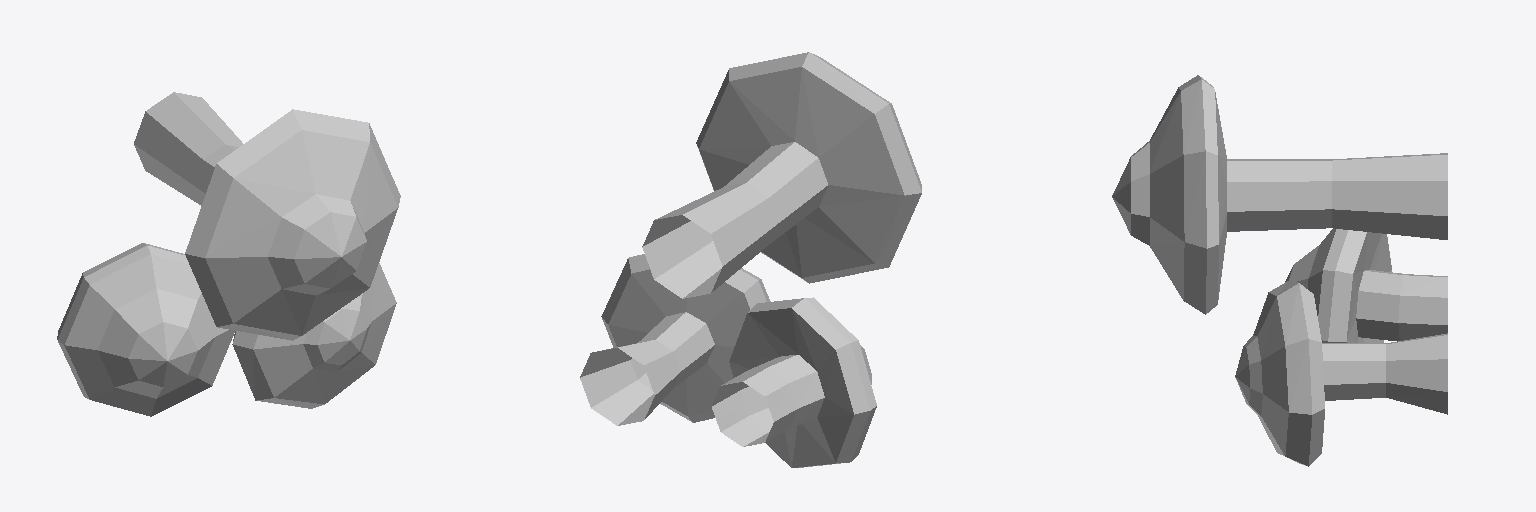
The model's file is shroom_cluster2.obj.
3 views of the same model, side by side, from view 1: azimuth 30°, elevation 25°; view 2: azimuth 150°, elevation 25°; view 3: azimuth 270°, elevation 25° (orthographic).
Visible parts, largest first — view 1: Shroom2, Shroom1, Shroom3; view 2: Shroom2, Shroom1, Shroom3; view 3: Shroom2, Shroom3, Shroom1.
Part boxes in pixels (left/top/right/bottom): Shroom2: left=134, top=92, right=400, bottom=340; Shroom1: left=57, top=243, right=234, bottom=416; Shroom3: left=232, top=263, right=396, bottom=408; Shroom2: left=642, top=52, right=921, bottom=298; Shroom1: left=712, top=297, right=876, bottom=467; Shroom3: left=580, top=254, right=770, bottom=425; Shroom2: left=1112, top=75, right=1447, bottom=314; Shroom3: left=1235, top=280, right=1447, bottom=466; Shroom1: left=1285, top=228, right=1447, bottom=342.
Size of the model in its own units: 0.481 by 0.5373 by 0.4656.